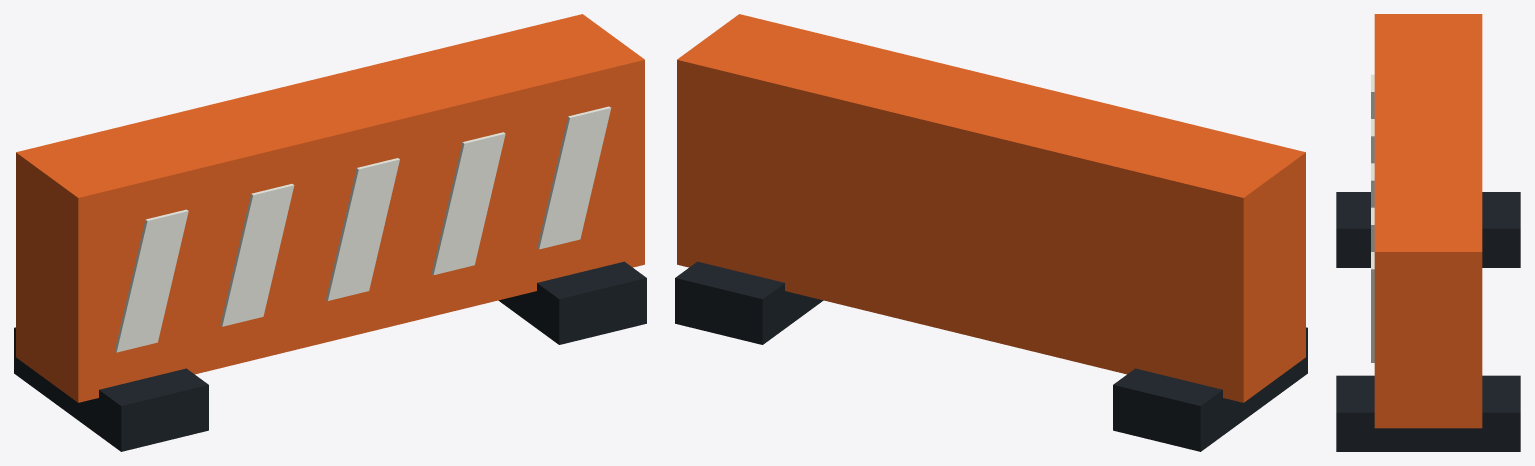
Rendered from water_barrier.glb.
3 views of the same model, side by side, from view 1: azimuth 30°, elevation 25°; view 2: azimuth 150°, elevation 25°; view 3: azimuth 270°, elevation 25° (orthographic). The views are drawn at different scales.
Visible parts, largest first — view 1: Water barrier body, Barrier foot left, Barrier foot right, White stripe 1, White stripe 4, White stripe 2, White stripe 3, White stripe 0; view 2: Water barrier body, Barrier foot left, Barrier foot right; view 3: Water barrier body, Barrier foot right, Barrier foot left, White stripe 4.
Boxes of the visible parts, <box> form: Water barrier body: <box>16,14,644,402</box>; Barrier foot left: <box>14,327,208,451</box>; Barrier foot right: <box>498,261,646,344</box>; White stripe 1: <box>220,184,294,326</box>; White stripe 4: <box>537,106,611,249</box>; White stripe 2: <box>326,158,399,300</box>; White stripe 3: <box>431,132,505,275</box>; White stripe 0: <box>114,209,188,352</box>; Water barrier body: <box>677,14,1305,402</box>; Barrier foot left: <box>1113,327,1307,451</box>; Barrier foot right: <box>675,261,823,344</box>; Water barrier body: <box>1374,14,1482,428</box>; Barrier foot right: <box>1336,375,1520,451</box>; Barrier foot left: <box>1336,192,1520,267</box>; White stripe 4: <box>1371,252,1374,362</box>.
Bounding box in the file's own units: 2.2 × 0.9 × 0.72.
